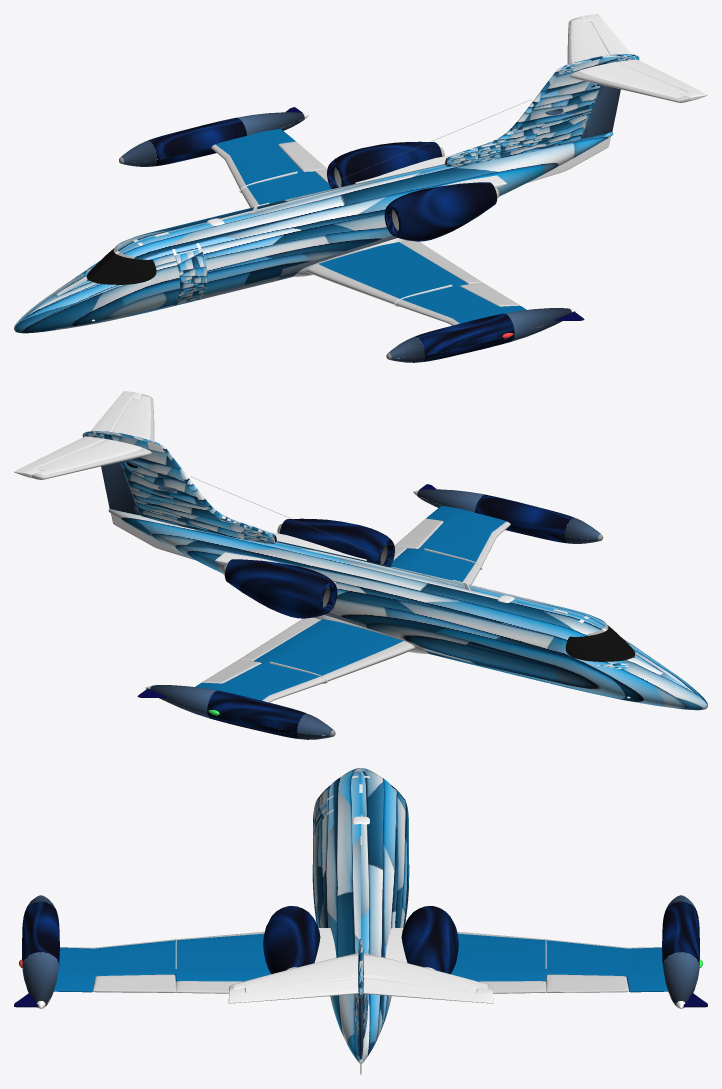
The model's file is jet.glb.
3 renders of one model, top to bottom at view 1: azimuth 30°, elevation 25°; view 2: azimuth 150°, elevation 25°; view 3: azimuth 270°, elevation 25°, orthographic. The views are drawn at different scales.
Visible parts, largest first — view 1: Object_836, Object_128, Object_922, Object_1097, Object_1111, Object_1112, Object_860, Object_1079, Object_264, Object_841, Object_835, Object_682 (+8 smaller); view 2: Object_836, Object_128, Object_922, Object_1097, Object_1111, Object_1112, Object_860, Object_1079, Object_264, Object_841, Object_847, Object_827 (+6 smaller); view 3: Object_836, Object_128, Object_922, Object_860, Object_1111, Object_1112, Object_817, Object_827, Object_844, Object_849, Object_918, Object_1079 (+3 smaller).
Part boxes in pixels (x1=…): Object_836: x1=14, y1=131, x2=613, y2=333; Object_128: x1=215, y1=128, x2=526, y2=323; Object_922: x1=327, y1=141, x2=496, y2=241; Object_1097: x1=446, y1=54, x2=639, y2=166; Object_1111: x1=147, y1=117, x2=514, y2=361; Object_1112: x1=121, y1=112, x2=571, y2=362; Object_860: x1=571, y1=18, x2=685, y2=98; Object_1079: x1=211, y1=144, x2=459, y2=325; Object_264: x1=86, y1=248, x2=156, y2=284; Object_841: x1=582, y1=85, x2=620, y2=138; Object_835: x1=55, y1=235, x2=397, y2=330; Object_682: x1=175, y1=249, x2=207, y2=293; Object_836: x1=108, y1=508, x2=707, y2=710; Object_128: x1=195, y1=505, x2=506, y2=700; Object_922: x1=225, y1=518, x2=394, y2=618; Object_1097: x1=82, y1=431, x2=275, y2=543; Object_1111: x1=207, y1=494, x2=574, y2=738; Object_1112: x1=150, y1=489, x2=600, y2=739; Object_860: x1=36, y1=395, x2=150, y2=475; Object_1079: x1=262, y1=521, x2=510, y2=702; Object_264: x1=565, y1=625, x2=635, y2=661; Object_841: x1=101, y1=461, x2=140, y2=515; Object_847: x1=32, y1=394, x2=154, y2=479; Object_827: x1=14, y1=436, x2=105, y2=477; Object_836: x1=312, y1=768, x2=409, y2=1063; Object_128: x1=53, y1=933, x2=668, y2=992; Object_922: x1=263, y1=906, x2=458, y2=973; Object_860: x1=234, y1=955, x2=487, y2=992; Object_1111: x1=22, y1=901, x2=699, y2=968; Object_1112: x1=22, y1=895, x2=699, y2=1007; Object_817: x1=228, y1=978, x2=358, y2=1003; Object_827: x1=362, y1=978, x2=493, y2=1003; Object_844: x1=93, y1=974, x2=175, y2=992; Object_849: x1=546, y1=974, x2=628, y2=992; Object_918: x1=314, y1=928, x2=407, y2=962; Object_1079: x1=60, y1=931, x2=661, y2=948.
Size of the model in its own units: 15.26 by 3.32 by 12.01.
49 materials, 15 textured.
